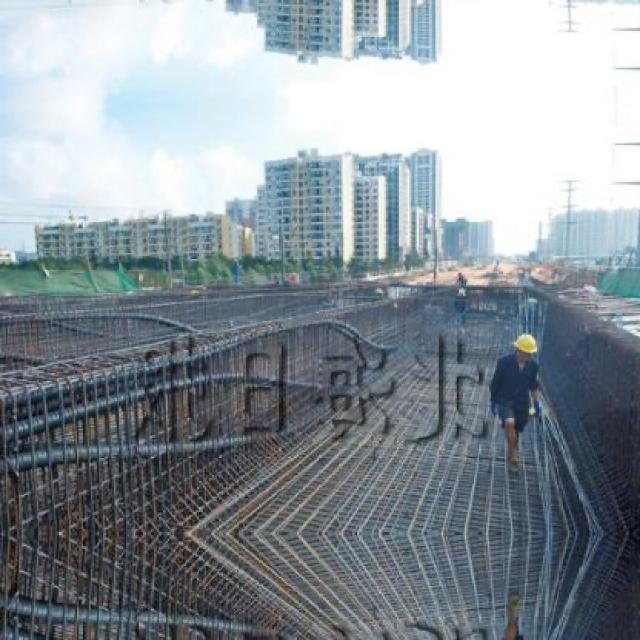helmet: (509, 332, 543, 362)
